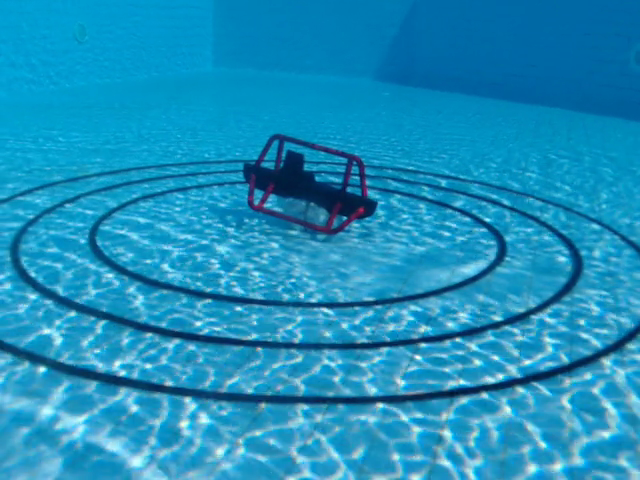submarine: (241, 133, 379, 237)
